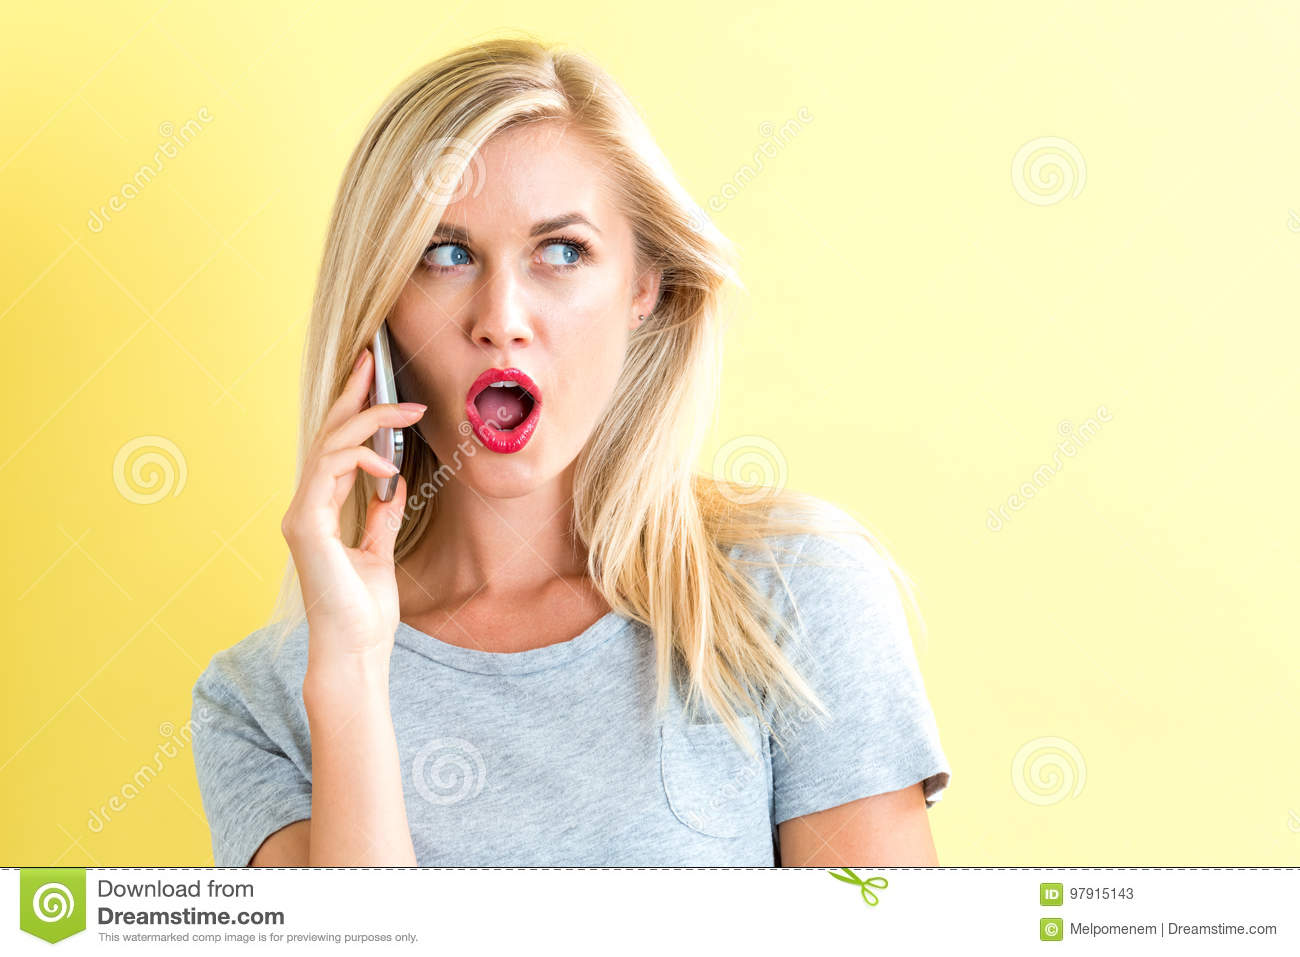phone: (358, 302, 407, 508)
talk: (286, 192, 613, 659)
